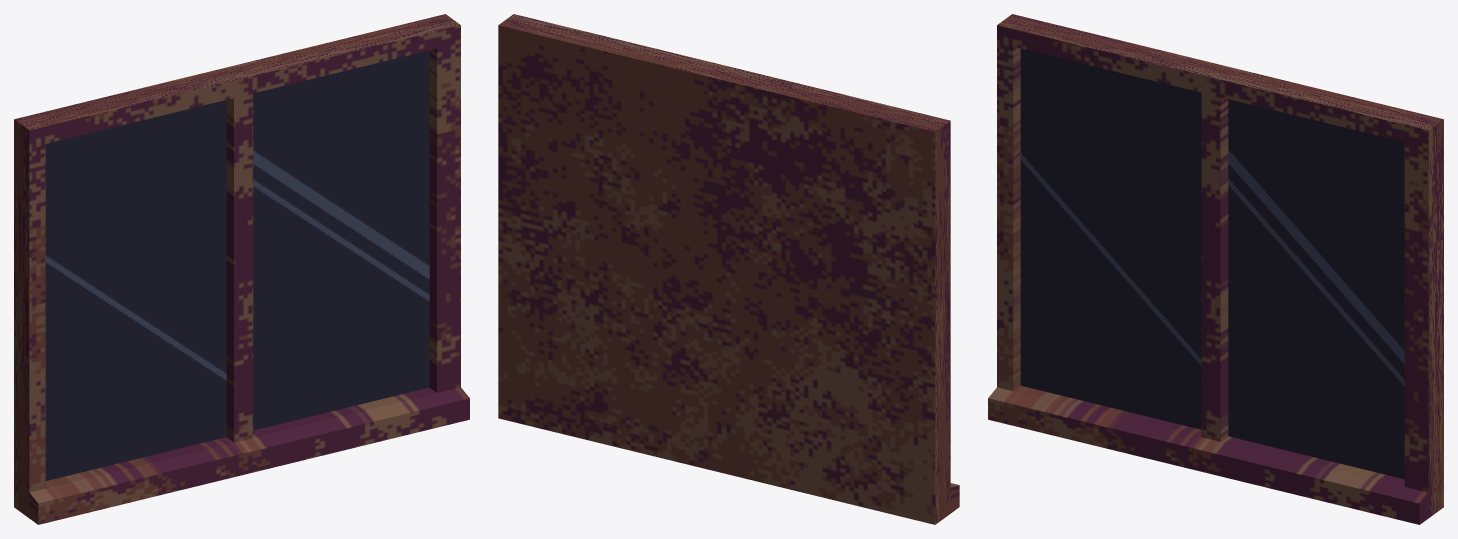
File: fenetre.fbx
3 renders of one model, left to right at view 1: azimuth 30°, elevation 25°; view 2: azimuth 150°, elevation 25°; view 3: azimuth 330°, elevation 25°, orthographic.
Visible parts, largest first — view 1: fenetre; view 2: fenetre; view 3: fenetre.
Part boxes in pixels (bbox=[...]): fenetre: bbox=[14, 14, 469, 524]; fenetre: bbox=[498, 14, 959, 524]; fenetre: bbox=[988, 14, 1443, 524].
Size of the model in its own units: 378 by 325 by 36.77.
